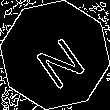N_NW: (25, 23, 85, 87)
